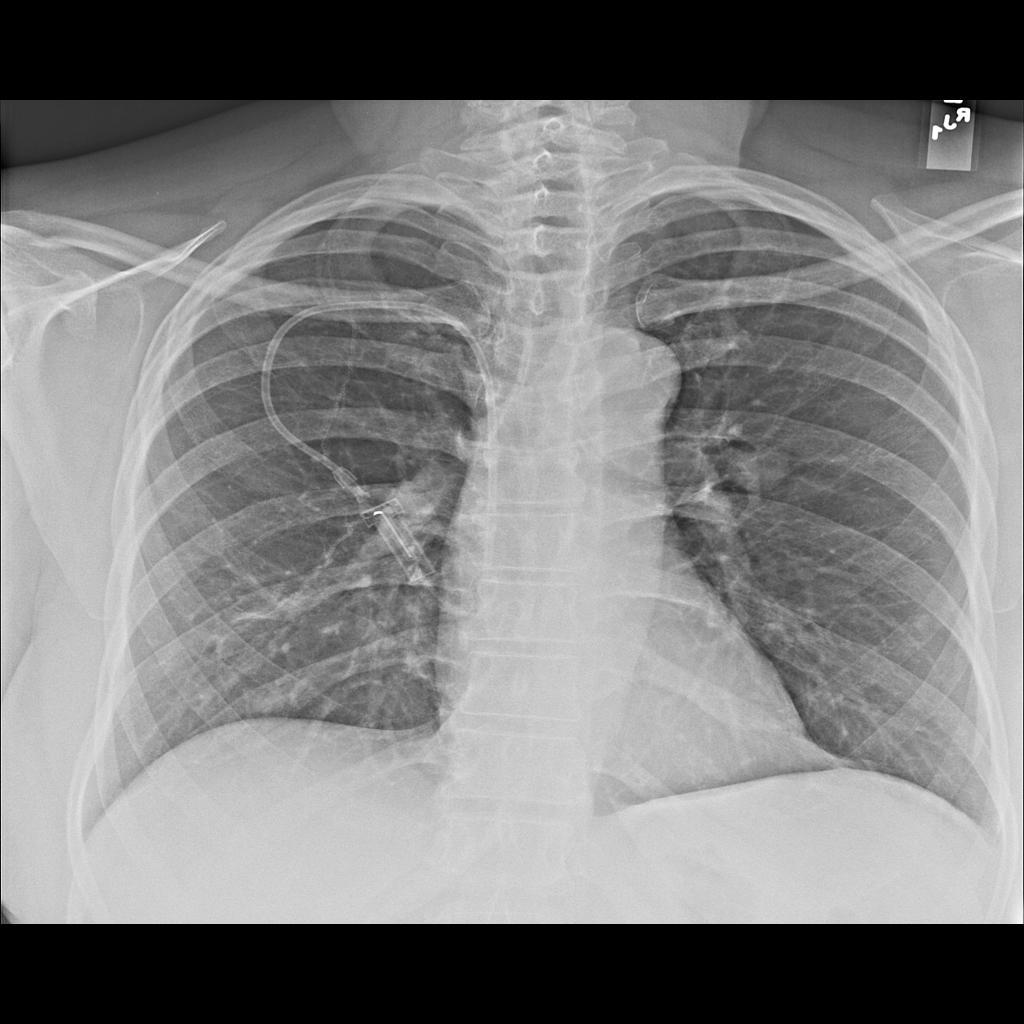Nodule: (723, 443, 798, 500)
